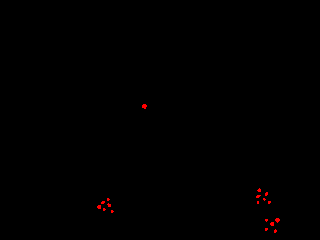Target: (142, 104, 147, 109), (275, 218, 280, 223), (257, 188, 261, 192), (107, 203, 111, 207), (97, 205, 101, 209), (270, 222, 274, 226), (256, 195, 261, 198), (265, 192, 268, 196), (101, 201, 105, 204), (274, 229, 277, 233), (107, 198, 110, 201), (263, 198, 266, 201), (268, 201, 271, 204), (103, 208, 106, 211), (111, 210, 114, 213), (265, 219, 268, 222), (265, 228, 268, 231), (257, 201, 259, 204)
